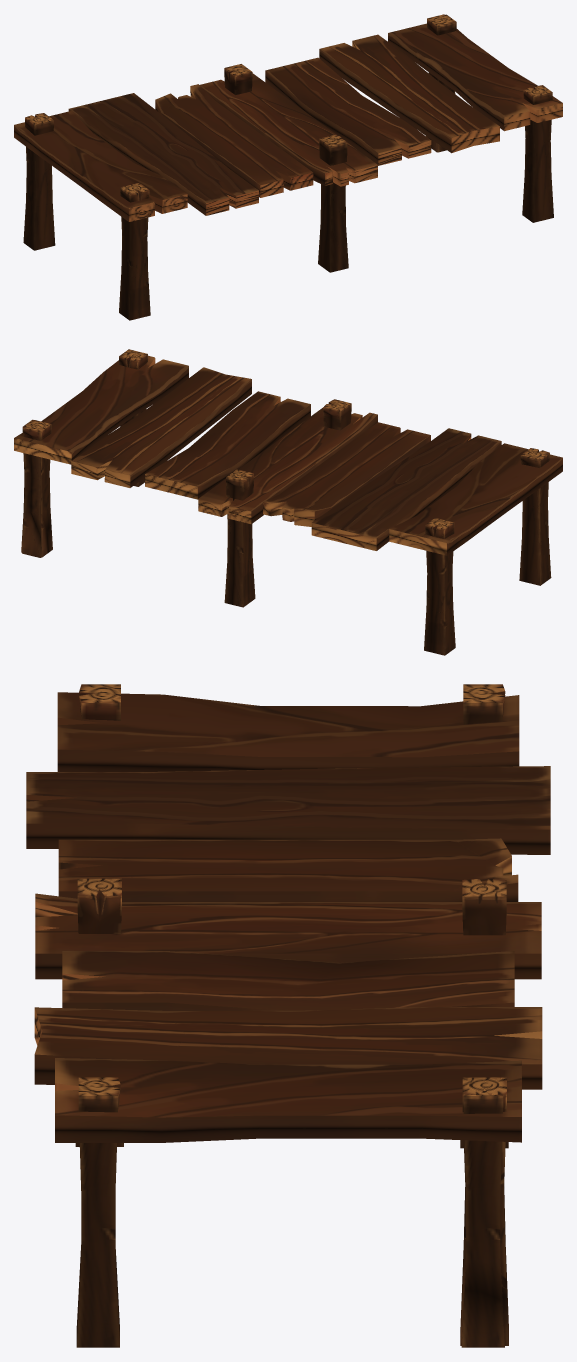
File: low_poly_bridge.glb
3 renders of one model, top to bottom at view 1: azimuth 30°, elevation 25°; view 2: azimuth 150°, elevation 25°; view 3: azimuth 270°, elevation 25°, orthographic. The views are drawn at different scales.
Visible parts, largest first — view 1: Cube.001; view 2: Cube.001; view 3: Cube.001.
Boxes of the visible parts, left/top/right/bottom form: Cube.001: left=14, top=14, right=562, bottom=320; Cube.001: left=14, top=349, right=562, bottom=655; Cube.001: left=26, top=684, right=550, bottom=1347.
Bounding box in the file's own units: 991 × 274 × 519.
Materials: 1 (1 with a texture image).
